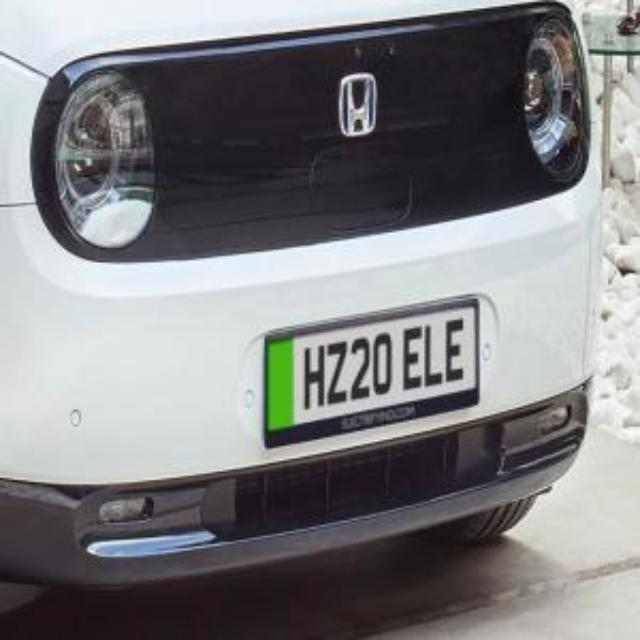License Plate: (265, 298, 480, 448)
